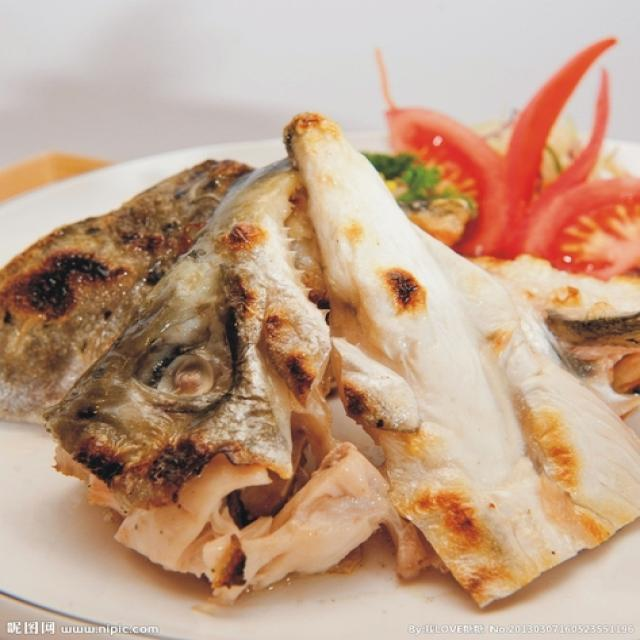熟制海鲜: (7, 16, 628, 634)
